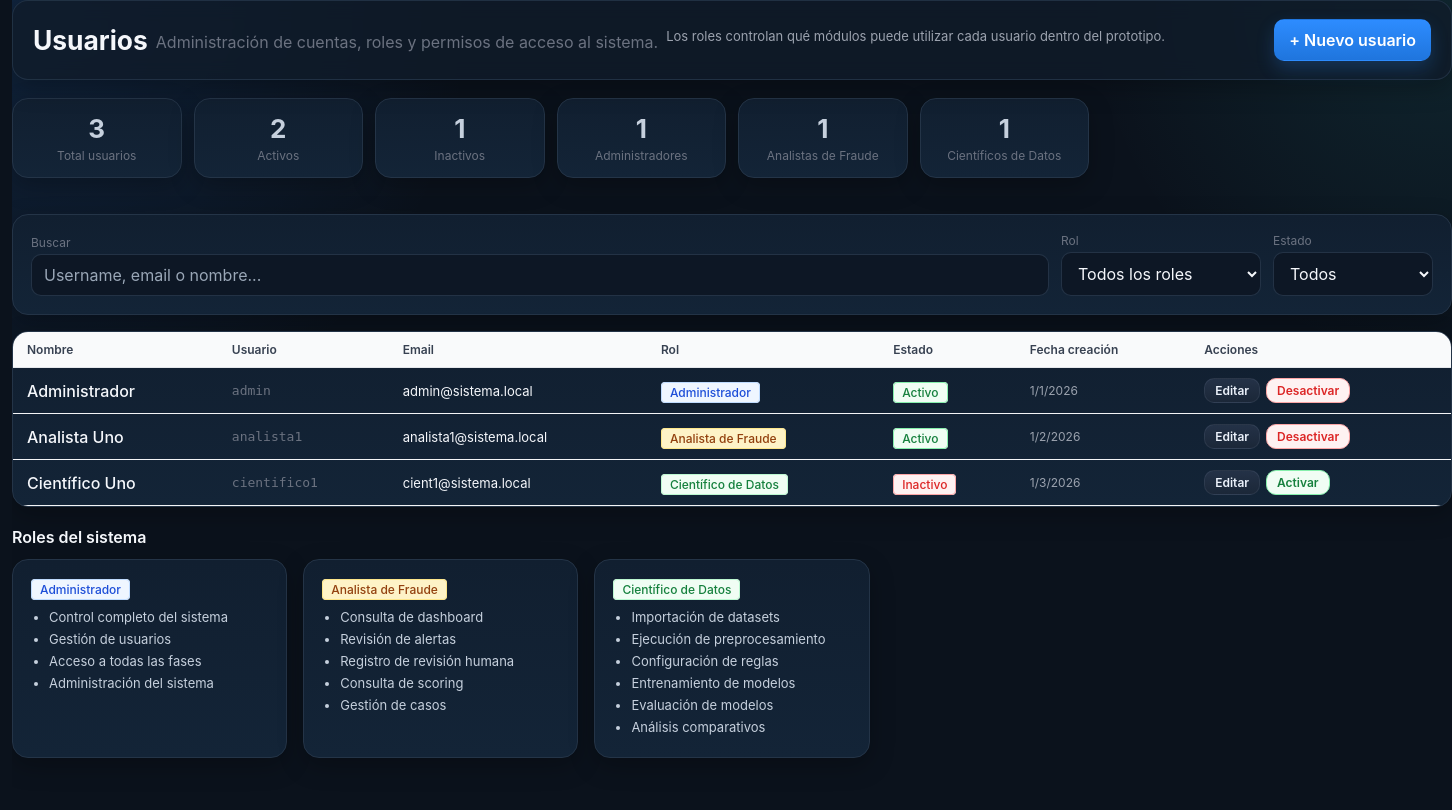
Test: Pantalla Usuarios › filtra por rol
expect the text "Analista Uno" is shown: met, box [13, 414, 218, 460]
Select "Administrador" in the dropdown with test id "filter-role" at x=1161, y=274, box [1061, 252, 1261, 296]
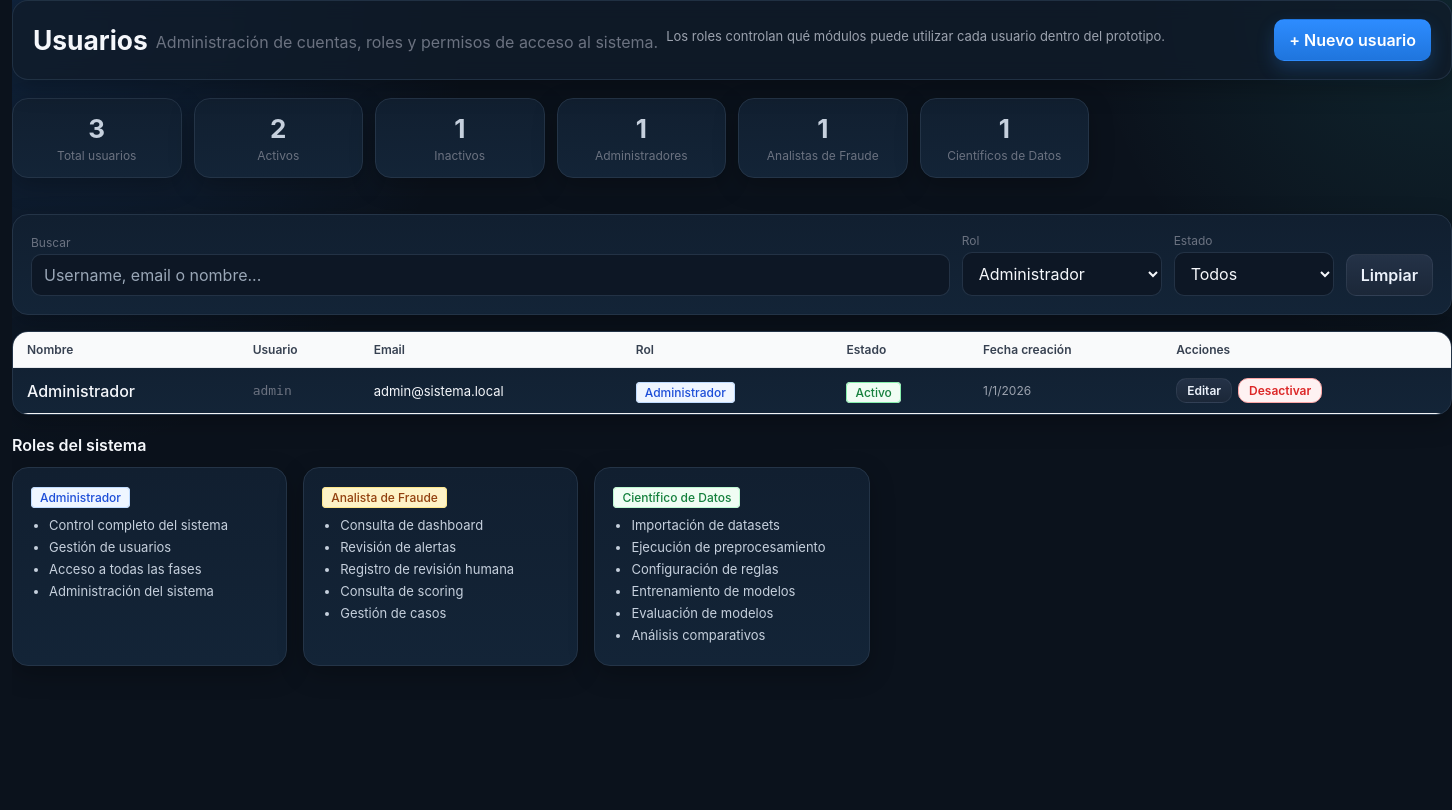
expect the text "Analista Uno" is gone: met
